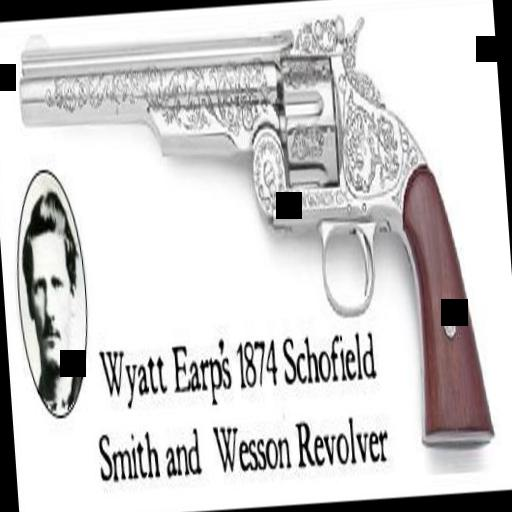Handgun: (5, 0, 498, 483)
